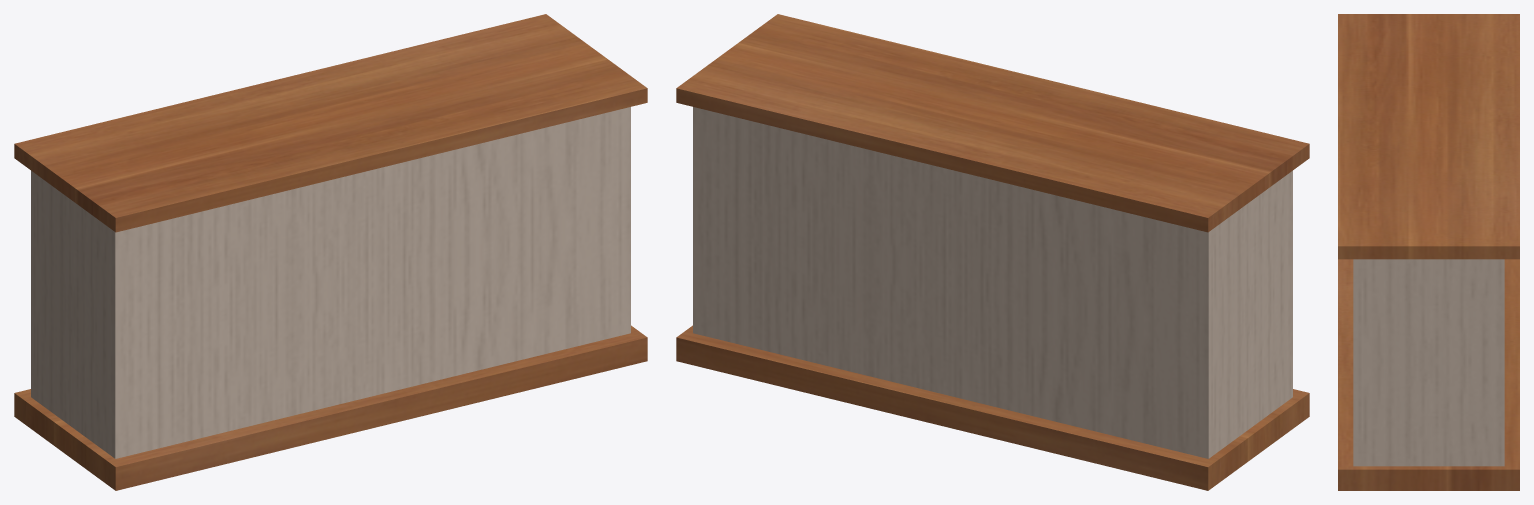
Rendered from Kitchen_Table.fbx.
3 renders of one model, left to right at view 1: azimuth 30°, elevation 25°; view 2: azimuth 150°, elevation 25°; view 3: azimuth 270°, elevation 25°, orthographic. The views are drawn at different scales.
Parts seen in each view (by area): view 1: polySurface552; view 2: polySurface552; view 3: polySurface552.
Boxes of the visible parts, x1,y1,x2,y2 form: polySurface552: (14,14,647,490); polySurface552: (676,14,1309,490); polySurface552: (1338,14,1519,490).
Bounding box in the file's own units: 2.3 × 1.13 × 0.76.
